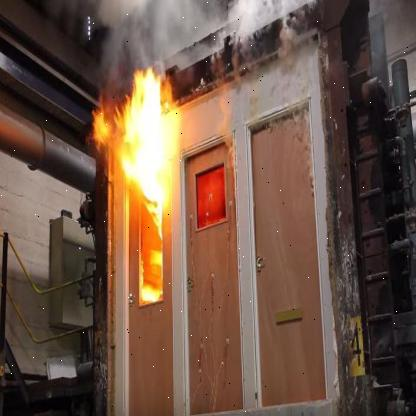fire: (92, 68, 187, 233)
smoke: (87, 0, 309, 114)
